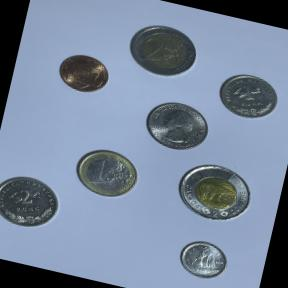coin: (168, 155, 260, 232), (120, 16, 204, 88), (66, 141, 146, 209), (136, 92, 215, 158), (0, 168, 66, 236), (171, 232, 235, 287), (52, 46, 116, 100)
